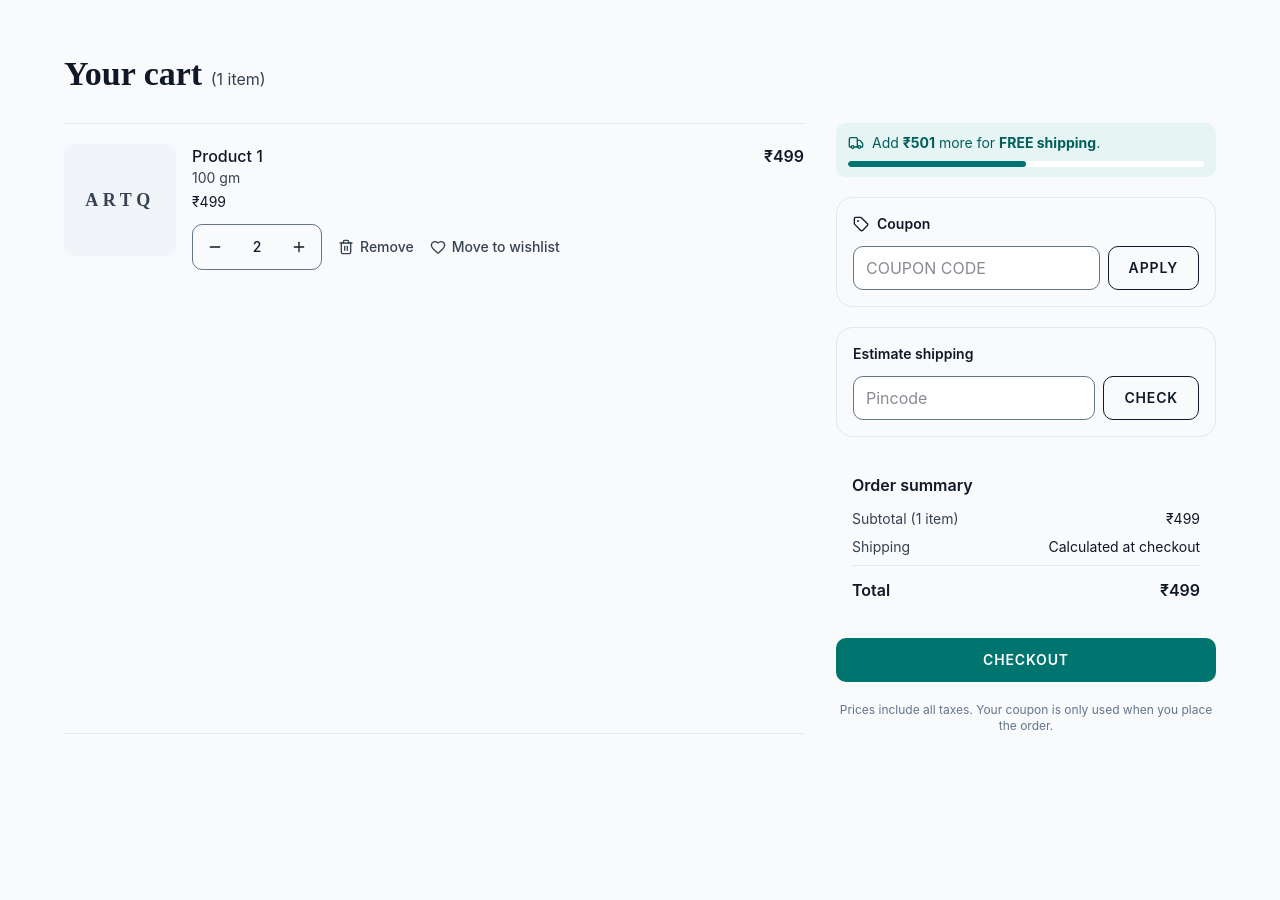
Scenario: cart page › quantity: + and − send the new quantity; + stops at what is available; a stock error shows on the line
Click the button named "One more Product 1 (100 gm)" at (299, 247), box [277,225,321,269]
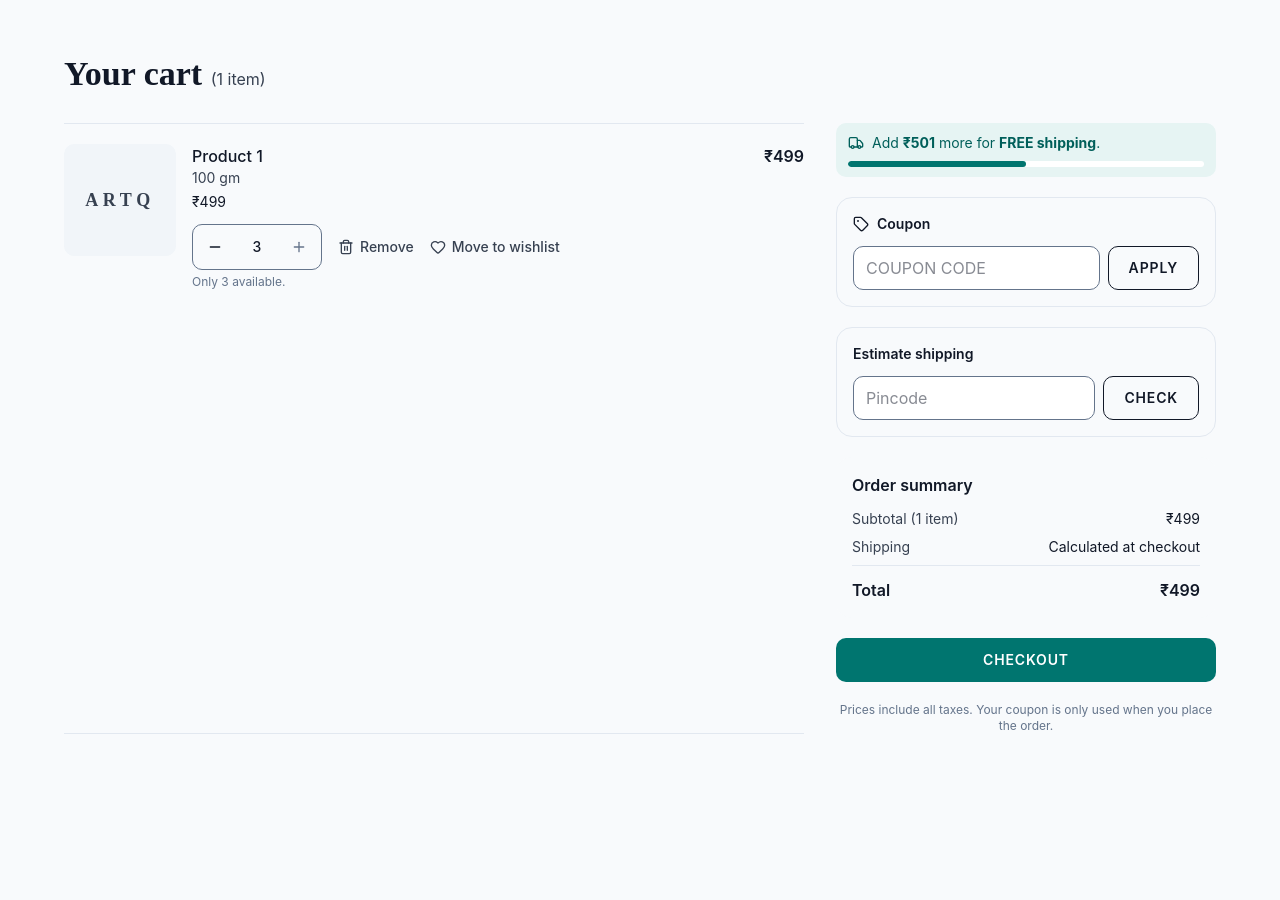
Now the button named "One more Product 1 (100 gm)" is disabled, box [277,225,321,269]
Now the text "Only 3 available." is shown, box [192,274,285,289]
Click the button named "One less Product 1 (100 gm)" at (215, 247), box [193,225,237,269]
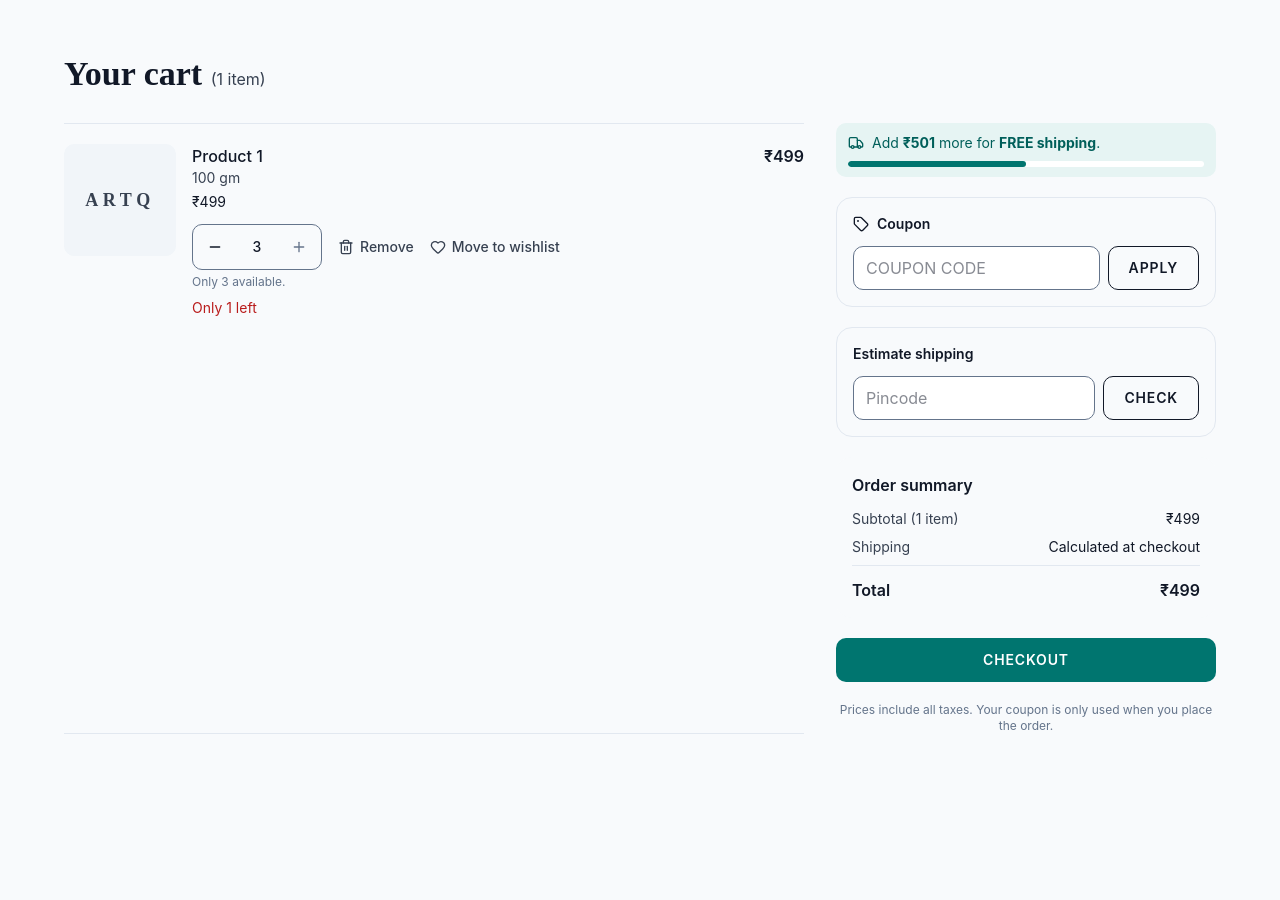
Now the message reads "Only 1 left", box [192,299,257,316]
